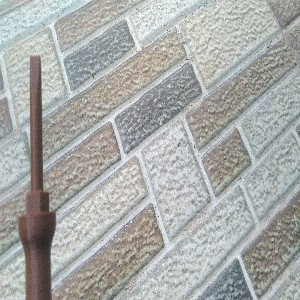obeng: (16, 54, 57, 300)
